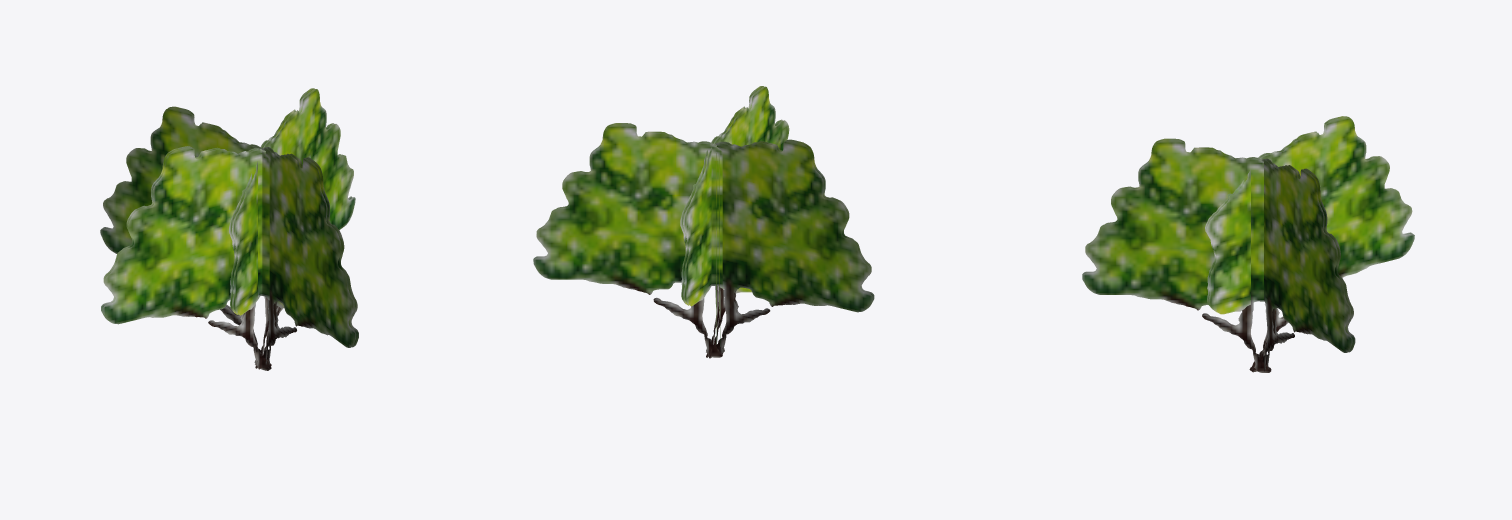
The model's file is Bush1.fbx.
3 renders of one model, left to right at view 1: azimuth 30°, elevation 25°; view 2: azimuth 150°, elevation 25°; view 3: azimuth 270°, elevation 25°, orthographic. The views are drawn at different scales.
Visible parts, largest first — view 1: Bush1; view 2: Bush1; view 3: Bush1.
Part boxes in pixels (<box>): Bush1: <box>100,88,358,370</box>; Bush1: <box>533,86,874,358</box>; Bush1: <box>1082,116,1414,372</box>.
Size of the model in its own units: 626 by 365 by 620.
1 material, 1 textured.
